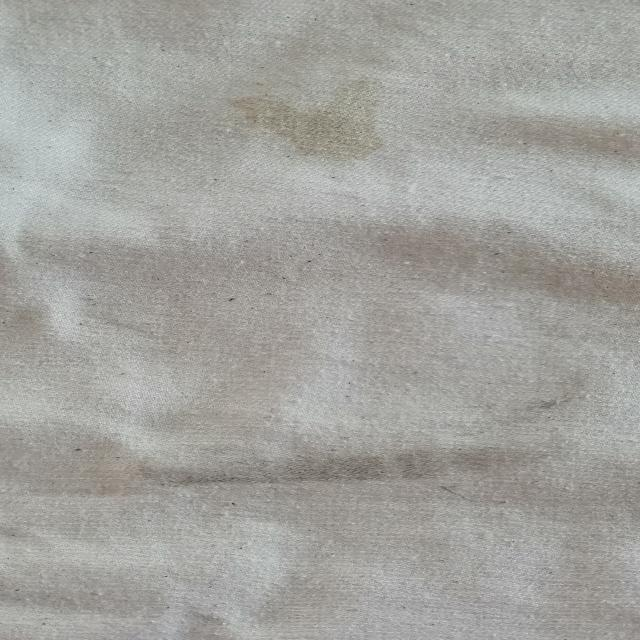taaaches: (100, 435, 574, 513), (207, 68, 415, 184), (478, 376, 600, 428)
